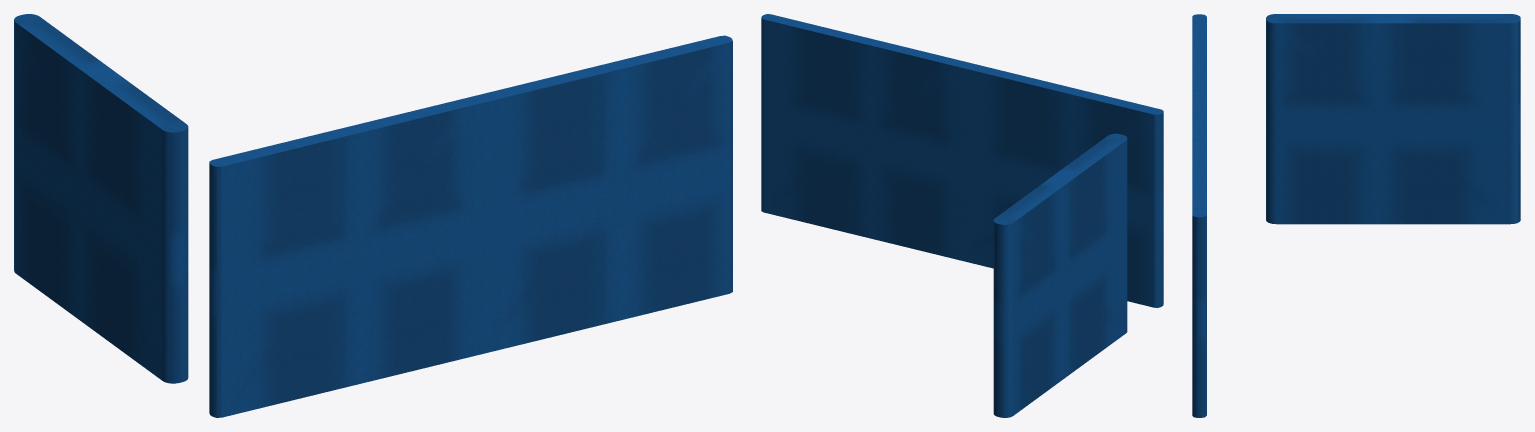
File: 7-standing-binder-band-3-1.fbx
3 renders of one model, left to right at view 1: azimuth 30°, elevation 25°; view 2: azimuth 150°, elevation 25°; view 3: azimuth 270°, elevation 25°, orthographic. The views are drawn at different scales.
Parts seen in each view (by area): view 1: standing-binder-band-3-1; view 2: standing-binder-band-3-1; view 3: standing-binder-band-3-1.
Boxes of the visible parts, bbox=[...] form: standing-binder-band-3-1: bbox=[14, 14, 732, 417]; standing-binder-band-3-1: bbox=[761, 14, 1163, 417]; standing-binder-band-3-1: bbox=[1192, 14, 1520, 417].
Bounding box in the file's own units: 13020 × 6000 × 8900.
1 material, 1 textured.
